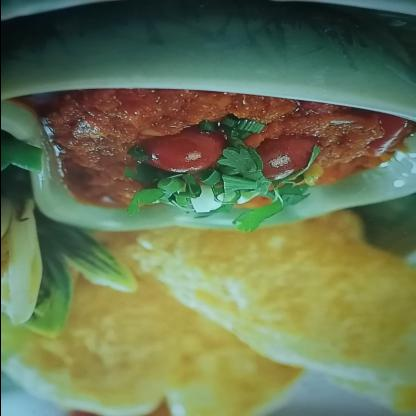Namprig: (18, 87, 409, 251)
